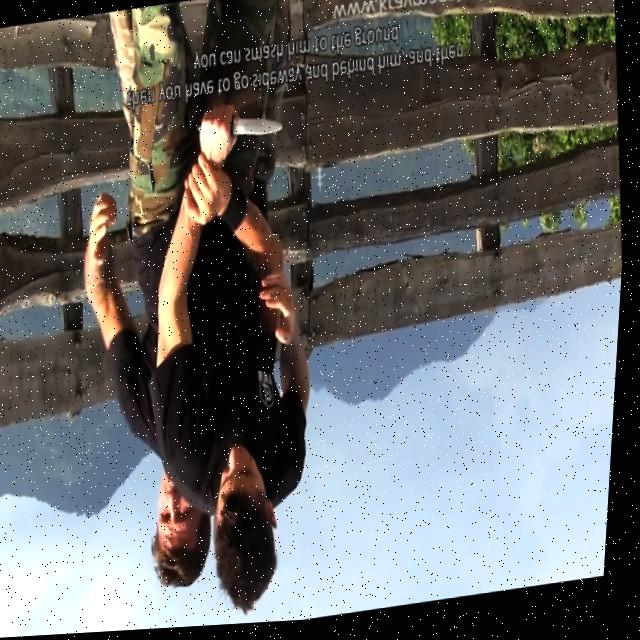knife: (229, 108, 285, 144)
